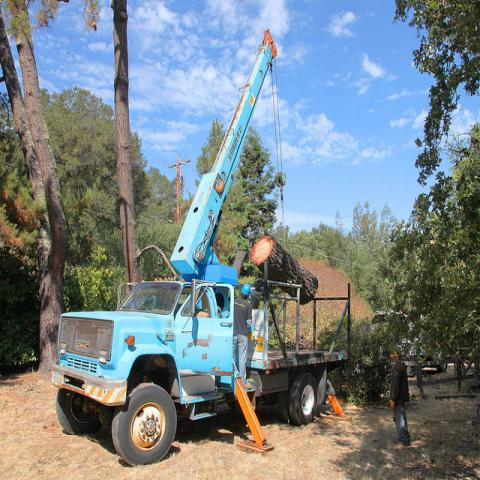truck: (50, 246, 348, 472)
